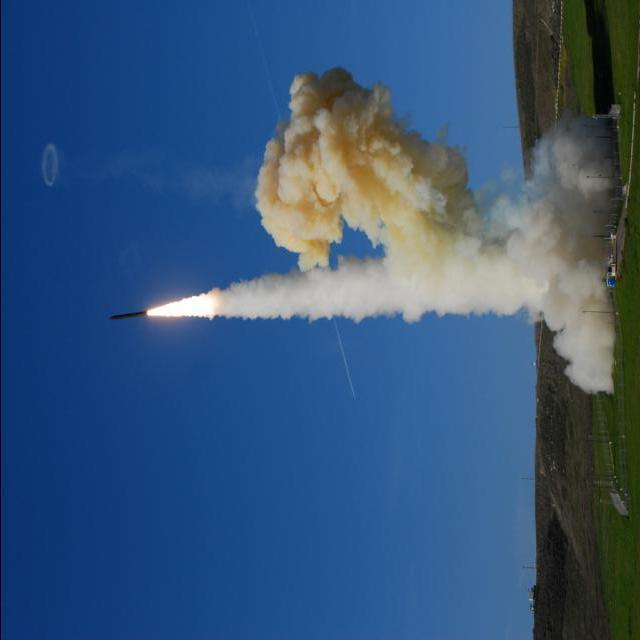missile: (112, 307, 154, 323)
